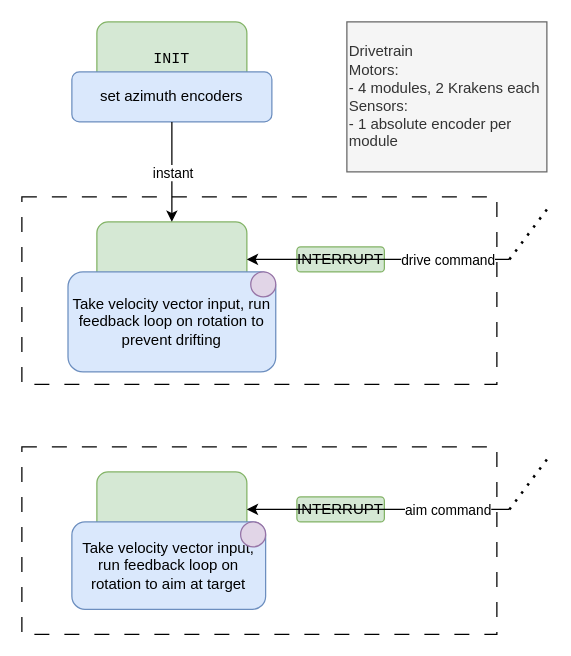
The diagram is 571 pixels wide and 656 high, and some of its shapes have lost their labels. The shapes that lost their labels are listed below. From the top down, each one's centre as x and y in pixels, then its label:
the point at 171,259: DRIVE
the point at 171,509: SPECIAL_AIMING
